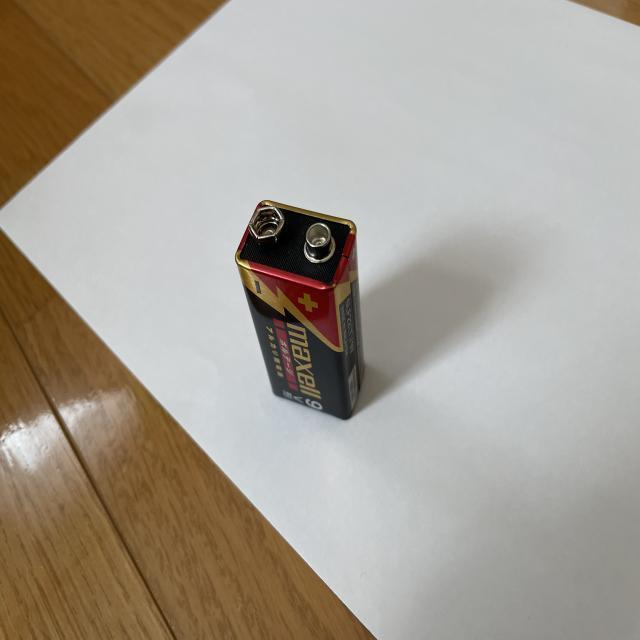9V: (235, 199, 367, 421)
